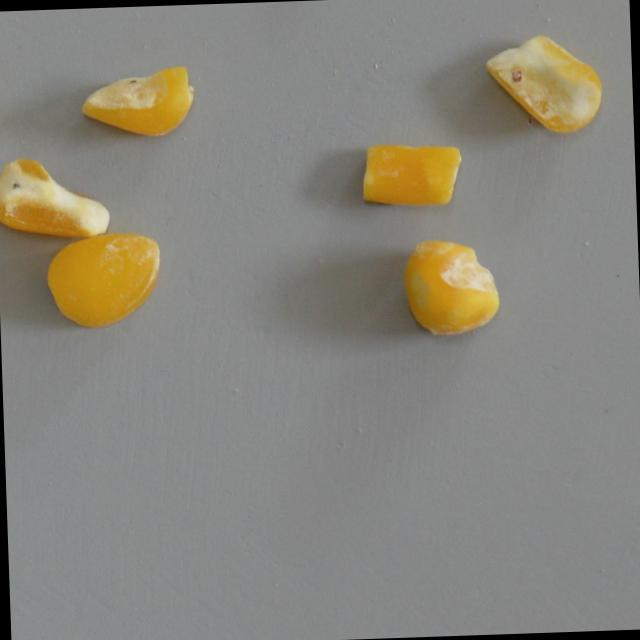dañado: (482, 27, 606, 144)
estandar: (42, 221, 163, 331), (350, 118, 470, 228)
pelicula: (403, 234, 503, 338)
punto_negro: (0, 151, 108, 244), (77, 59, 196, 141)
